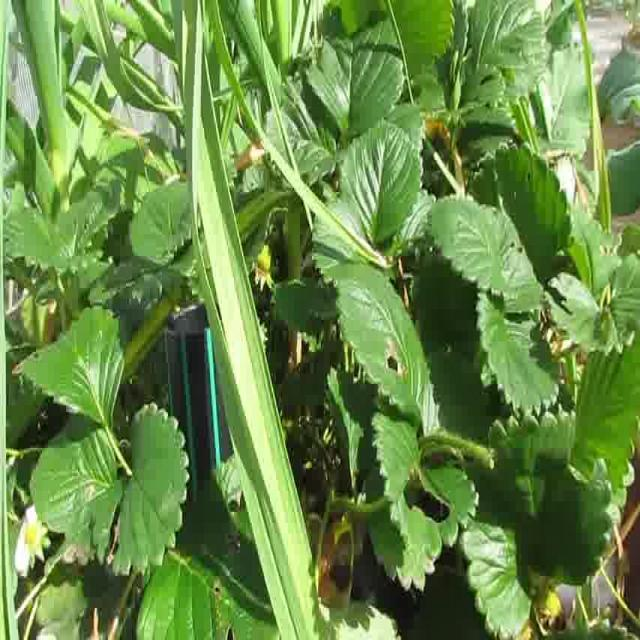Fruta sana: (534, 587, 562, 617), (510, 618, 540, 640), (257, 241, 272, 272), (24, 524, 38, 546)
